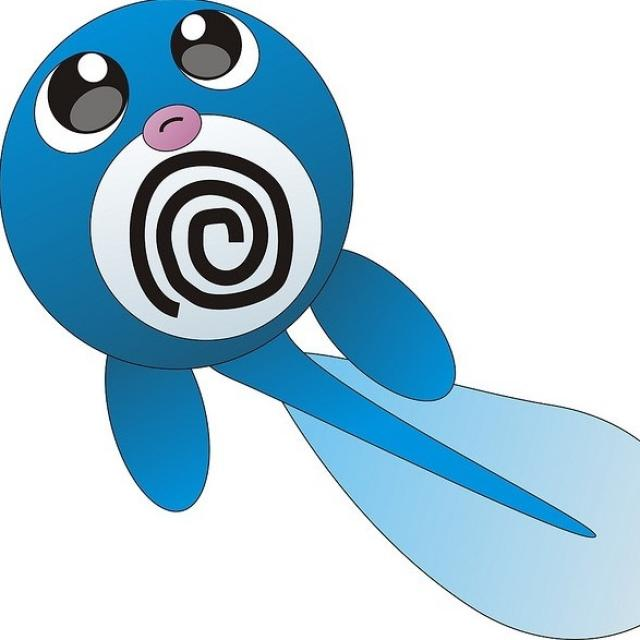Poliwag: (2, 1, 466, 492)
